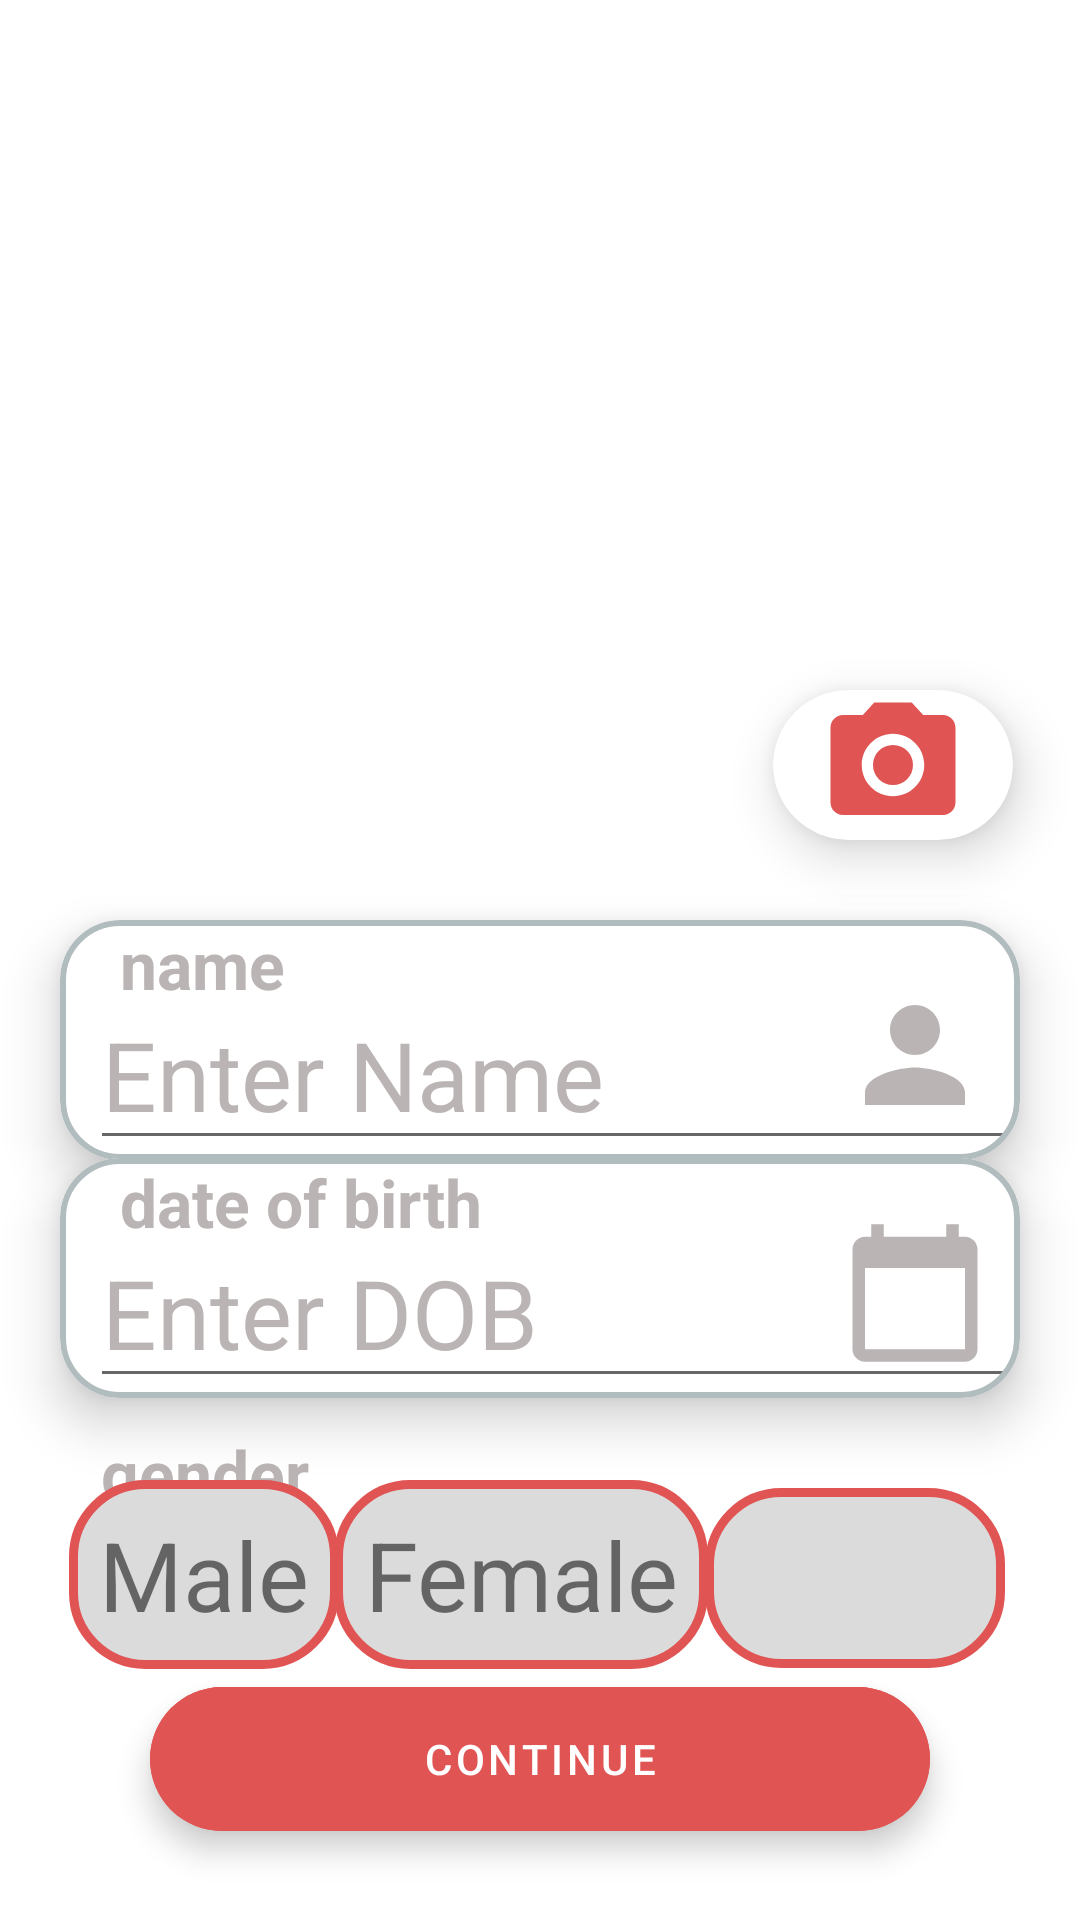

Where to tap for icons on this 1080px x 1920px app screen, as [x,y]:
calendar today: [915,1293]
camera: [893,765]
person: [915,1055]
